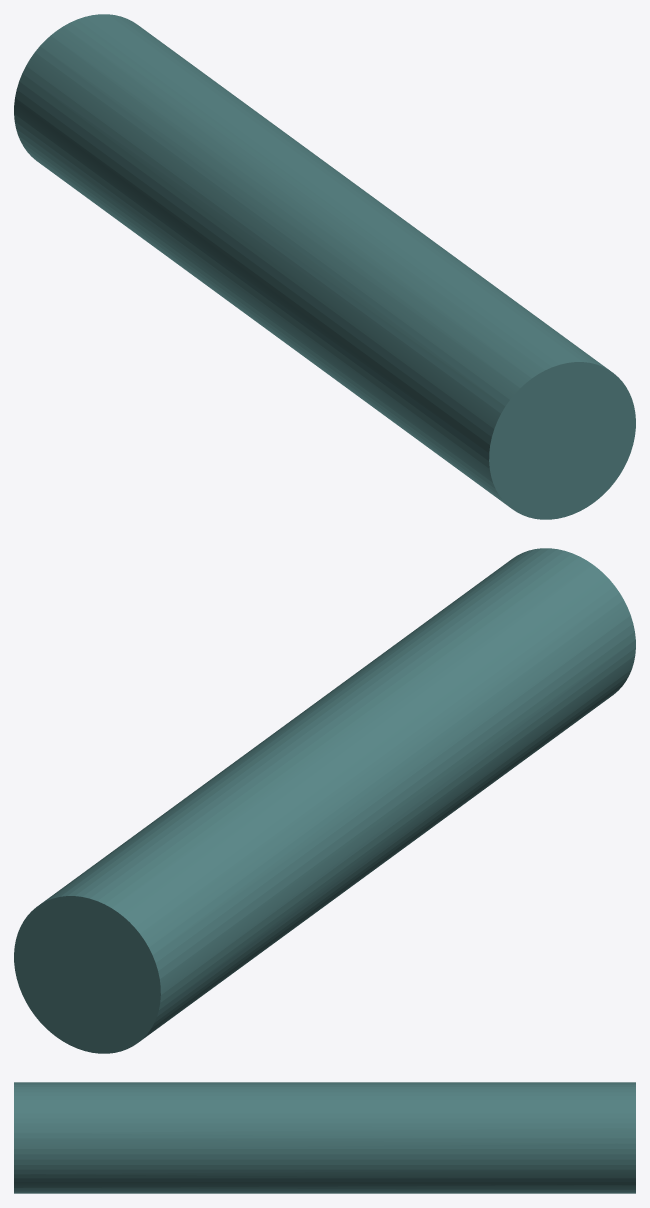
File: reed.glb
3 renders of one model, top to bottom at view 1: azimuth 30°, elevation 25°; view 2: azimuth 150°, elevation 25°; view 3: azimuth 270°, elevation 25°, orthographic. The views are drawn at different scales.
Parts seen in each view (by area): view 1: reed saved shape; view 2: reed saved shape; view 3: reed saved shape.
Part boxes in pixels (box(x1,y1,x2,y2)): reed saved shape: box(14, 14, 635, 519); reed saved shape: box(14, 548, 635, 1053); reed saved shape: box(14, 1082, 635, 1193).
Size of the model in its own units: 2.5 by 2.5 by 14.
